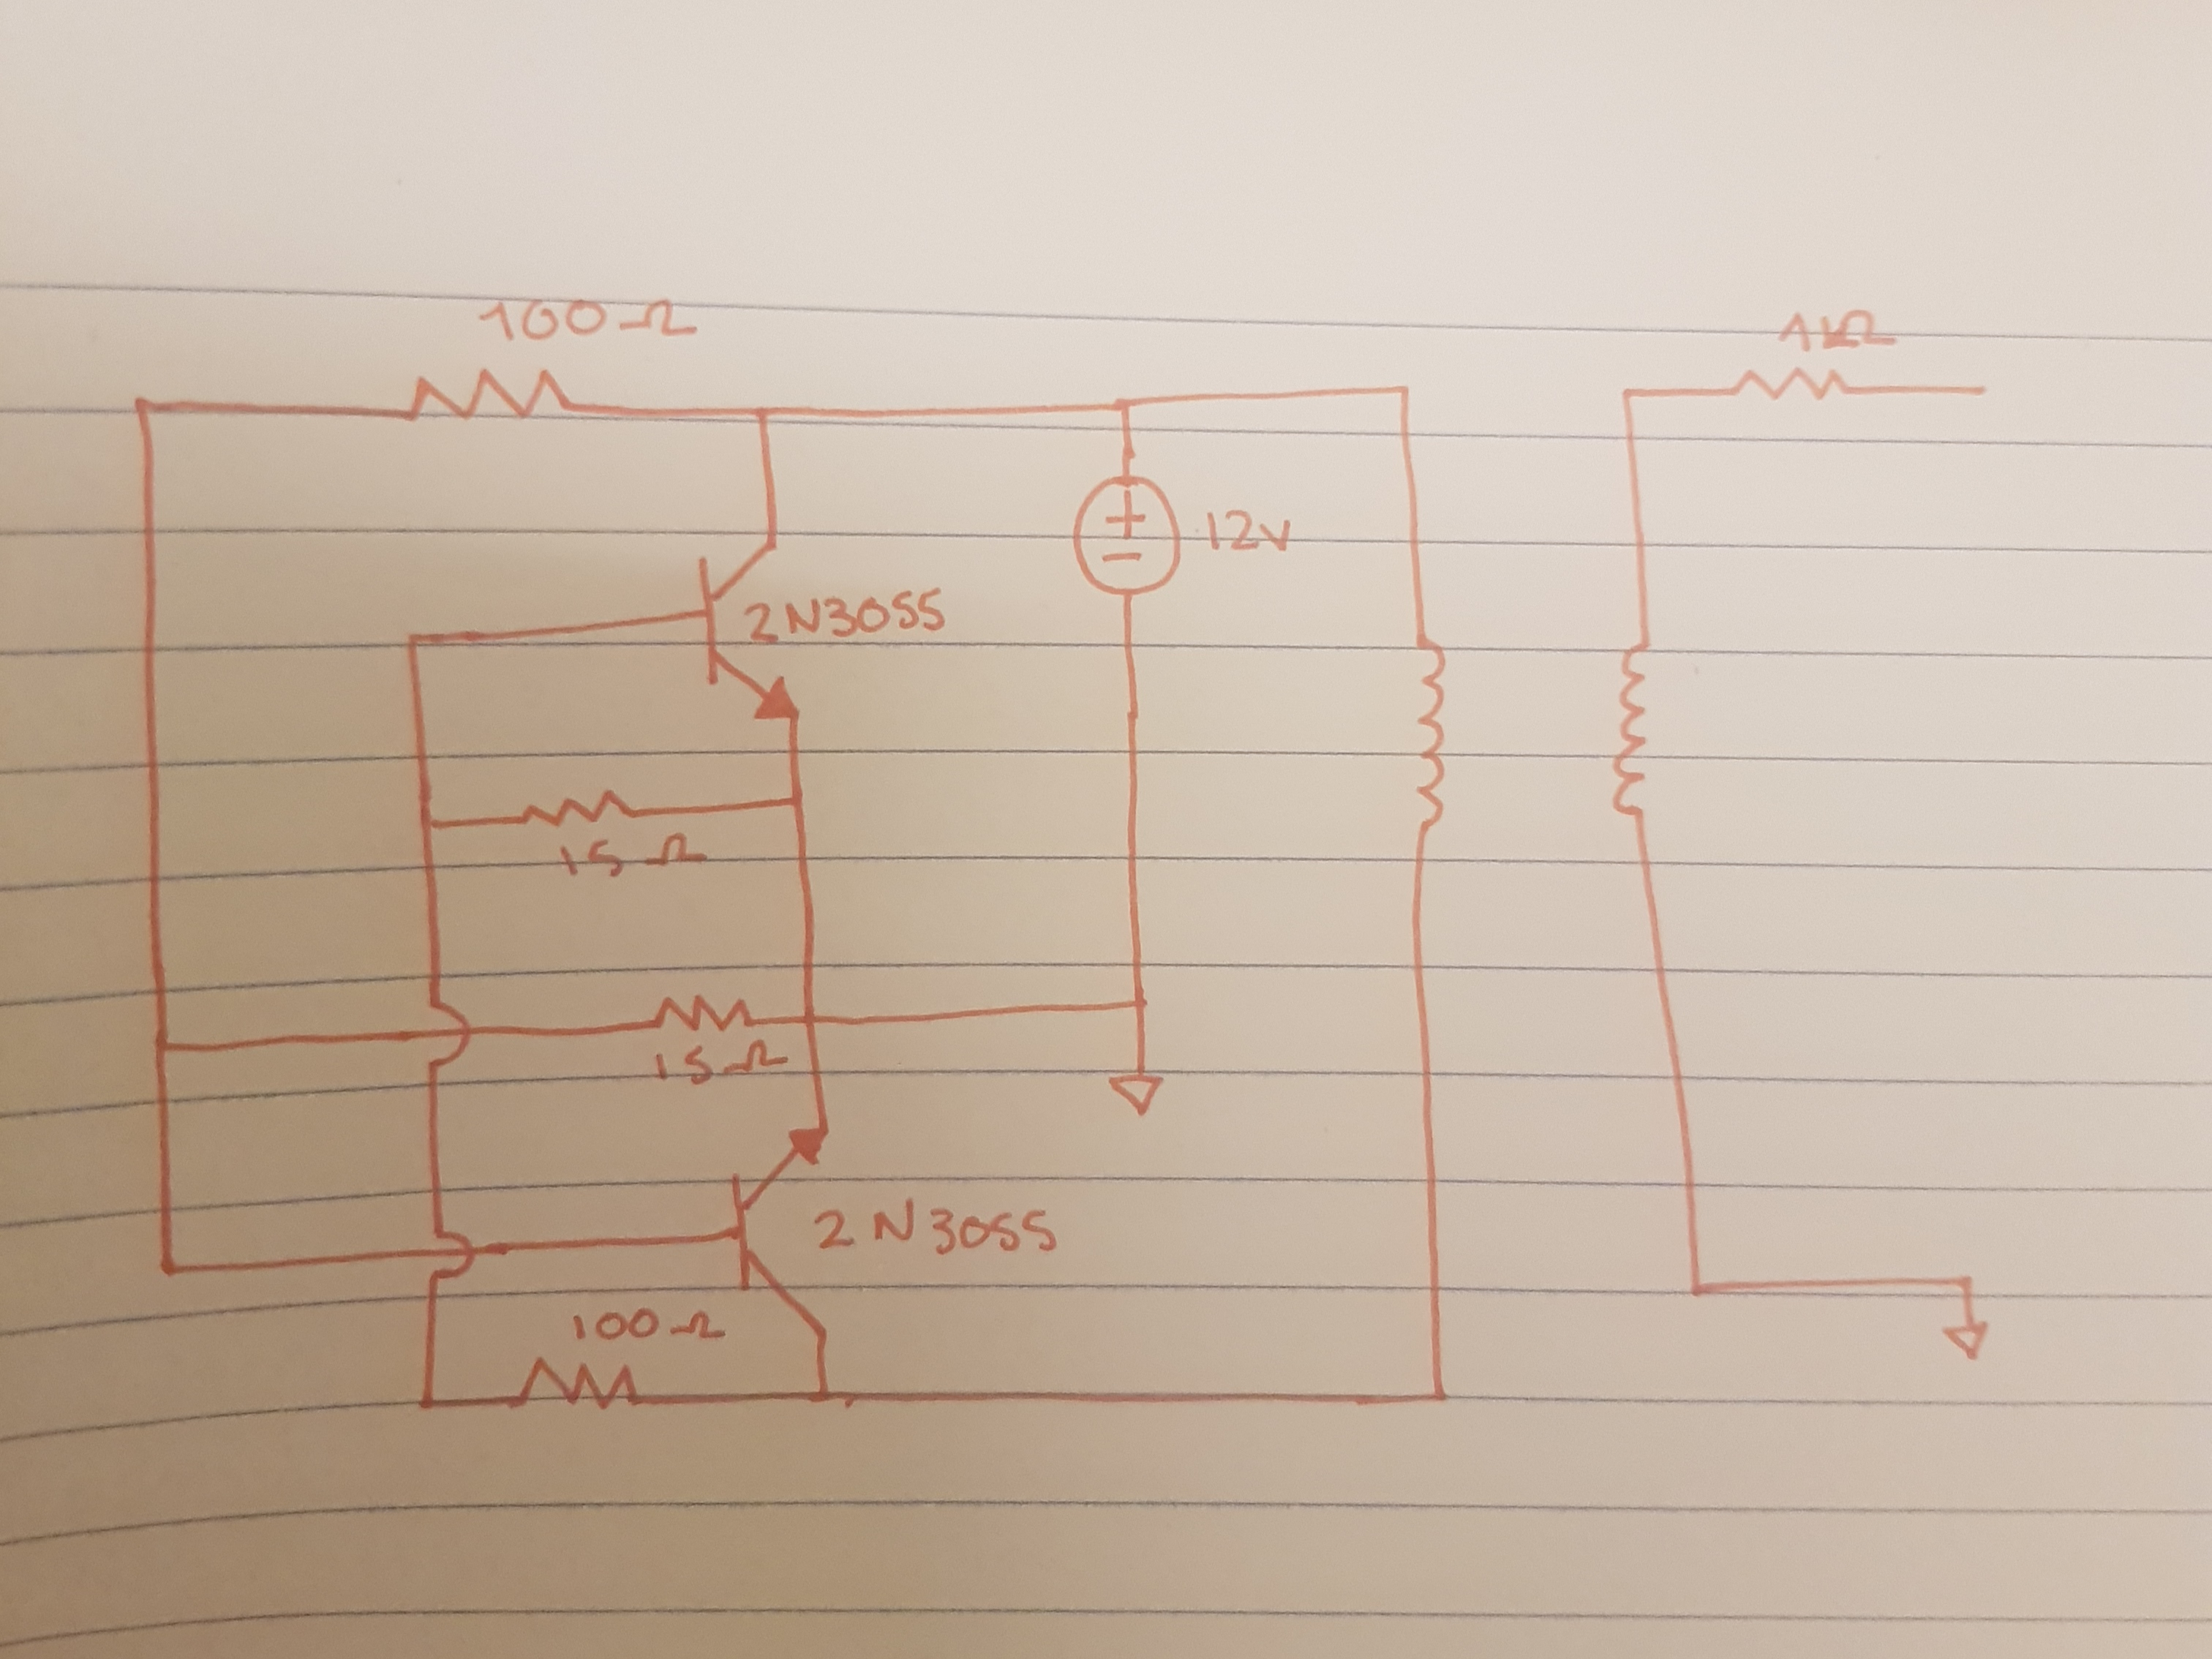crossover: (416, 993, 477, 1080), (420, 1227, 477, 1288)
gnd: (1103, 1065, 1176, 1129), (1937, 1314, 1996, 1370)
junction: (401, 626, 430, 662), (1416, 1382, 1454, 1408), (152, 1251, 183, 1283), (143, 1028, 174, 1058), (415, 812, 446, 840), (127, 392, 155, 422), (749, 399, 777, 429), (1683, 1274, 1709, 1305), (810, 1385, 838, 1412), (1393, 376, 1421, 403), (1615, 383, 1642, 408), (782, 788, 808, 812), (1129, 990, 1153, 1016), (1109, 397, 1136, 418), (1956, 1267, 1977, 1293), (801, 1007, 824, 1030), (415, 1391, 435, 1413)
resistor: (395, 362, 594, 432), (509, 1345, 653, 1425), (1723, 361, 1869, 415), (512, 788, 650, 836), (641, 990, 763, 1044)
terminal: (1961, 375, 1996, 406)
text: (812, 1195, 1061, 1258), (477, 295, 698, 349), (740, 587, 948, 643), (557, 833, 711, 882), (1768, 303, 1904, 355), (1197, 502, 1303, 565), (650, 1039, 789, 1086), (566, 1309, 726, 1347)
transformer: (1404, 608, 1670, 871)
transistor: (688, 521, 817, 741), (723, 1124, 845, 1349)
voltage.dc: (1068, 471, 1191, 606)
